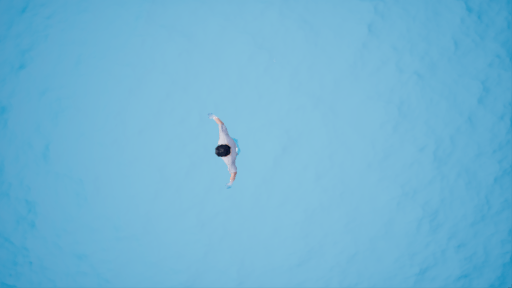person: (205, 102, 253, 189)
